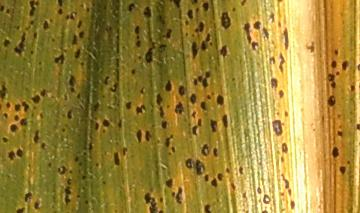tarspot: (143, 192, 163, 213), (13, 31, 27, 57), (144, 41, 158, 64), (270, 118, 284, 137), (242, 21, 252, 45), (220, 11, 231, 31), (63, 185, 73, 206), (191, 118, 202, 137), (194, 159, 206, 176), (200, 71, 211, 89), (278, 50, 286, 74), (190, 40, 199, 60), (28, 1, 39, 17), (327, 73, 337, 90), (53, 52, 66, 65), (282, 26, 289, 50), (28, 94, 43, 105), (280, 172, 289, 190), (218, 43, 228, 59), (304, 41, 316, 54), (194, 20, 205, 34), (1, 82, 9, 101), (111, 151, 121, 166), (175, 186, 183, 204), (209, 118, 218, 134), (142, 5, 153, 18), (261, 26, 271, 40), (200, 143, 210, 157), (174, 101, 184, 115), (23, 190, 33, 204), (269, 75, 278, 90), (326, 95, 337, 107), (56, 165, 68, 176), (157, 14, 167, 27), (331, 146, 340, 160), (164, 79, 173, 93), (155, 92, 164, 106), (164, 133, 173, 147), (161, 28, 172, 39), (221, 113, 229, 128), (215, 94, 225, 106), (164, 177, 174, 189), (184, 157, 194, 169), (135, 128, 143, 143), (6, 150, 16, 162), (186, 8, 195, 21), (340, 60, 350, 71), (135, 104, 145, 115), (107, 82, 118, 92), (262, 193, 271, 205), (68, 74, 77, 86), (288, 198, 296, 211), (268, 11, 276, 24), (160, 118, 168, 131), (121, 145, 129, 158), (33, 198, 41, 211), (250, 40, 259, 51), (201, 1, 210, 12), (2, 37, 11, 48), (20, 101, 29, 112), (144, 129, 151, 143), (158, 105, 165, 119), (277, 88, 285, 100), (199, 39, 207, 51), (92, 102, 100, 114), (20, 116, 28, 128), (70, 10, 78, 22), (281, 142, 288, 155), (178, 84, 185, 97), (189, 92, 196, 105), (252, 20, 261, 30), (37, 88, 46, 98), (33, 129, 39, 144), (9, 123, 18, 133), (127, 2, 135, 13), (13, 102, 21, 113), (102, 75, 110, 86), (204, 31, 211, 43), (74, 48, 81, 60), (16, 147, 23, 159), (71, 33, 78, 45), (268, 55, 276, 65), (203, 203, 211, 213), (216, 172, 224, 182), (199, 100, 207, 110), (172, 1, 182, 9), (134, 39, 142, 49), (101, 119, 111, 127), (339, 164, 346, 175), (229, 181, 236, 192), (210, 177, 217, 188), (42, 19, 49, 30), (15, 206, 26, 213), (348, 84, 356, 93), (212, 146, 218, 158), (124, 101, 132, 110), (56, 7, 64, 16), (134, 24, 141, 34), (66, 110, 73, 120), (40, 141, 47, 151), (75, 89, 82, 99), (116, 118, 123, 128), (38, 110, 45, 120), (355, 122, 360, 135), (183, 19, 191, 27), (330, 59, 337, 68), (241, 191, 248, 200), (190, 110, 197, 119), (76, 19, 83, 28), (170, 144, 177, 153), (239, 1, 249, 7), (238, 166, 244, 176), (286, 187, 292, 197), (94, 121, 100, 131), (32, 30, 38, 40), (169, 190, 176, 198), (69, 86, 76, 94), (130, 67, 137, 75), (4, 101, 11, 109), (79, 184, 87, 191), (336, 130, 342, 139), (256, 186, 262, 195), (276, 20, 282, 29), (333, 47, 339, 56), (196, 74, 202, 83), (158, 43, 167, 49), (78, 29, 84, 38), (259, 208, 269, 213), (139, 85, 144, 95), (64, 12, 69, 22), (2, 137, 9, 144), (2, 112, 9, 119), (28, 49, 35, 56), (46, 161, 53, 168), (283, 109, 289, 117), (158, 195, 164, 203), (192, 78, 198, 86), (13, 113, 19, 121), (28, 19, 36, 25), (66, 177, 72, 185), (99, 179, 107, 185), (102, 3, 108, 11), (203, 174, 208, 183), (88, 141, 93, 150), (230, 6, 236, 13), (206, 93, 212, 100), (134, 34, 141, 40), (57, 1, 64, 7), (60, 127, 67, 133), (94, 161, 100, 168), (73, 155, 79, 162), (80, 174, 87, 180), (75, 193, 82, 199), (50, 36, 56, 43), (107, 25, 113, 32), (91, 1, 97, 8), (84, 6, 91, 12), (356, 63, 360, 73), (189, 1, 199, 5), (137, 53, 142, 61), (279, 156, 285, 162), (230, 76, 236, 82), (345, 159, 351, 165), (225, 167, 230, 174), (15, 24, 20, 31), (190, 32, 195, 39), (1, 5, 5, 13), (6, 6, 10, 14), (184, 30, 188, 38), (335, 70, 340, 76), (208, 40, 213, 46), (77, 160, 82, 166), (83, 199, 89, 204), (37, 60, 42, 66), (167, 151, 172, 156), (275, 1, 283, 3), (82, 151, 86, 155)
